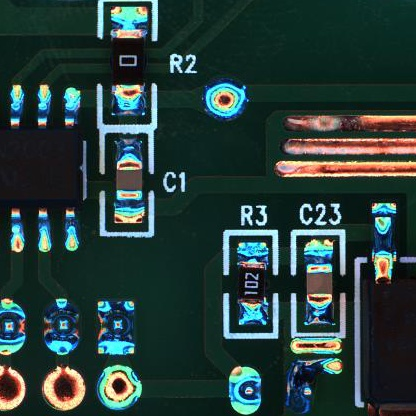spot: (41, 297, 80, 358), (95, 299, 138, 354), (203, 79, 250, 120), (1, 297, 32, 358), (227, 366, 263, 414)
